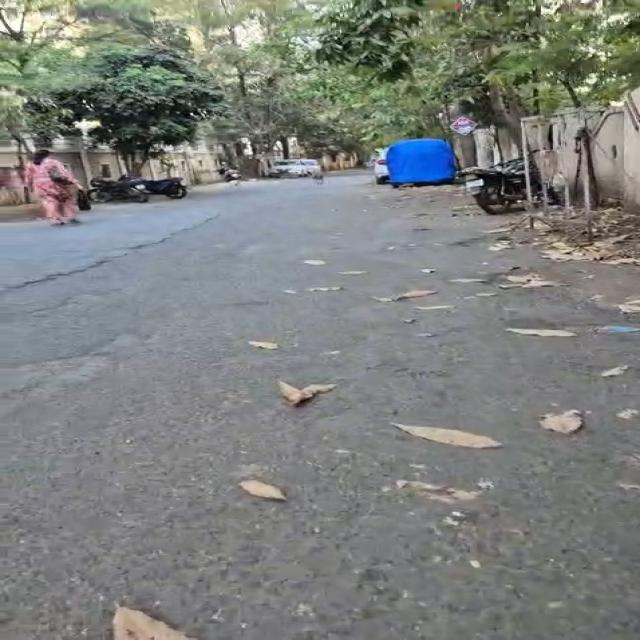obstacle: (489, 83, 523, 155), (121, 151, 148, 177), (560, 80, 582, 108), (279, 136, 290, 159)
person: (26, 150, 81, 224)
vehical: (458, 158, 527, 214), (88, 178, 148, 203), (141, 177, 187, 199), (270, 159, 313, 177), (374, 149, 389, 184), (300, 159, 321, 175)
